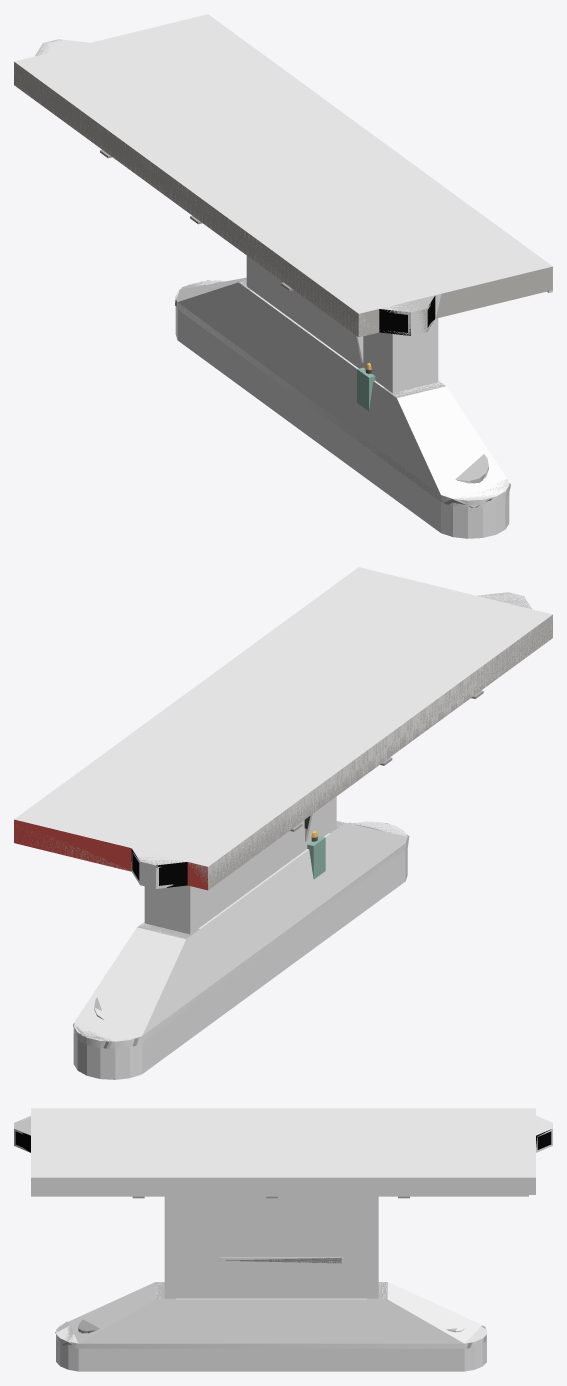
Rendered from toll.dae.
3 views of the same model, one above another, from view 1: azimuth 30°, elevation 25°; view 2: azimuth 150°, elevation 25°; view 3: azimuth 270°, elevation 25° (orthographic). The views are drawn at different scales.
Parts seen in each view (by area): view 1: Colmesh-1, toll_a050, toll_a400; view 2: Colmesh-1, toll_a050, toll_a400; view 3: Colmesh-1, toll_a400, toll_a050.
Boxes of the visible parts, x1,y1,x2,y2 form: Colmesh-1: (14,14,552,538); toll_a050: (14,39,552,507); toll_a400: (36,39,552,507); Colmesh-1: (14,567,552,1079); toll_a050: (14,592,552,1048); toll_a400: (14,592,530,1048); Colmesh-1: (31,1108,535,1371); toll_a400: (14,1116,552,1348); toll_a050: (14,1116,552,1348).
Size of the model in its own units: 4.3 by 14.13 by 5.74.
